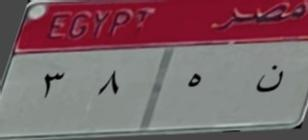3: (36, 67, 68, 104)
8: (96, 68, 123, 103)
haa: (182, 66, 208, 98)
noon: (249, 57, 286, 102)
